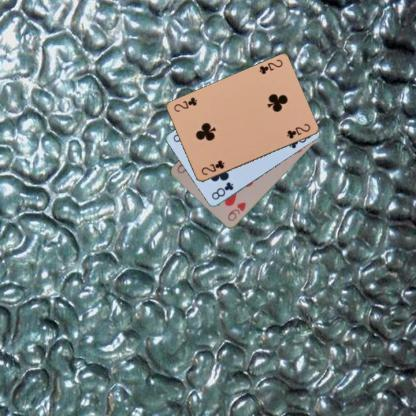2c: (256, 57, 284, 76), (199, 158, 226, 177)
8c: (209, 180, 235, 201)
9h: (225, 200, 247, 222)
